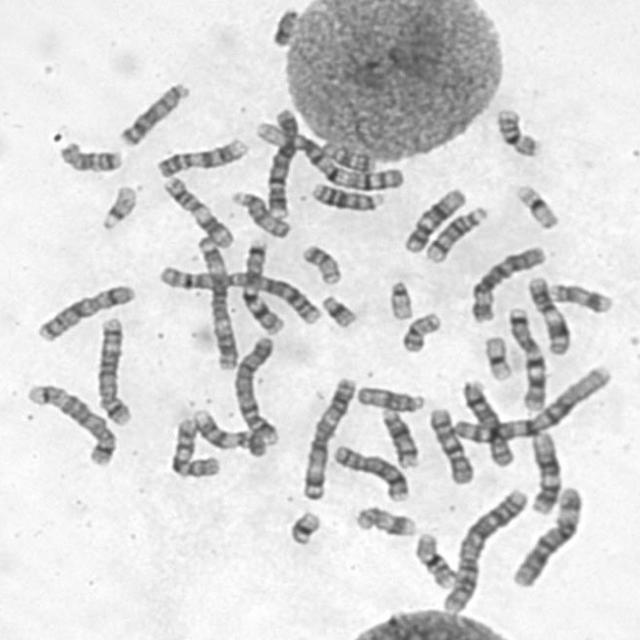A1: (446, 360, 614, 446), (252, 113, 408, 193)
A2: (436, 483, 530, 615), (153, 260, 324, 326)
A3: (296, 372, 359, 502), (193, 231, 240, 371)
B4: (229, 329, 282, 446), (259, 102, 302, 220)
B5: (20, 377, 118, 468), (90, 310, 134, 428)
C10: (423, 402, 476, 486), (164, 412, 222, 479)
C11: (157, 171, 235, 250), (521, 271, 571, 356)
C12: (398, 182, 468, 255), (524, 427, 563, 515)
C6: (505, 481, 585, 589), (465, 240, 548, 324)
C7: (502, 302, 548, 413), (237, 233, 286, 336)
C8: (456, 376, 517, 468), (327, 440, 411, 503)
C9: (150, 132, 250, 179), (188, 404, 268, 458)
D13: (113, 77, 192, 149), (306, 177, 386, 212)
D14: (420, 202, 490, 264), (374, 403, 420, 469)
D15: (226, 186, 293, 240), (351, 381, 427, 414)
E16: (410, 528, 458, 590), (490, 102, 542, 159)
E17: (544, 277, 614, 316), (349, 501, 419, 539)
E18: (53, 136, 124, 174), (318, 136, 378, 174)
F19: (509, 179, 562, 231), (479, 330, 514, 382)
F20: (296, 239, 343, 286), (396, 308, 444, 354)
G21: (282, 506, 323, 548), (316, 290, 359, 330)
G22: (94, 180, 140, 232), (383, 275, 415, 321)
X: (30, 279, 136, 344)
Y: (266, 2, 301, 47)
